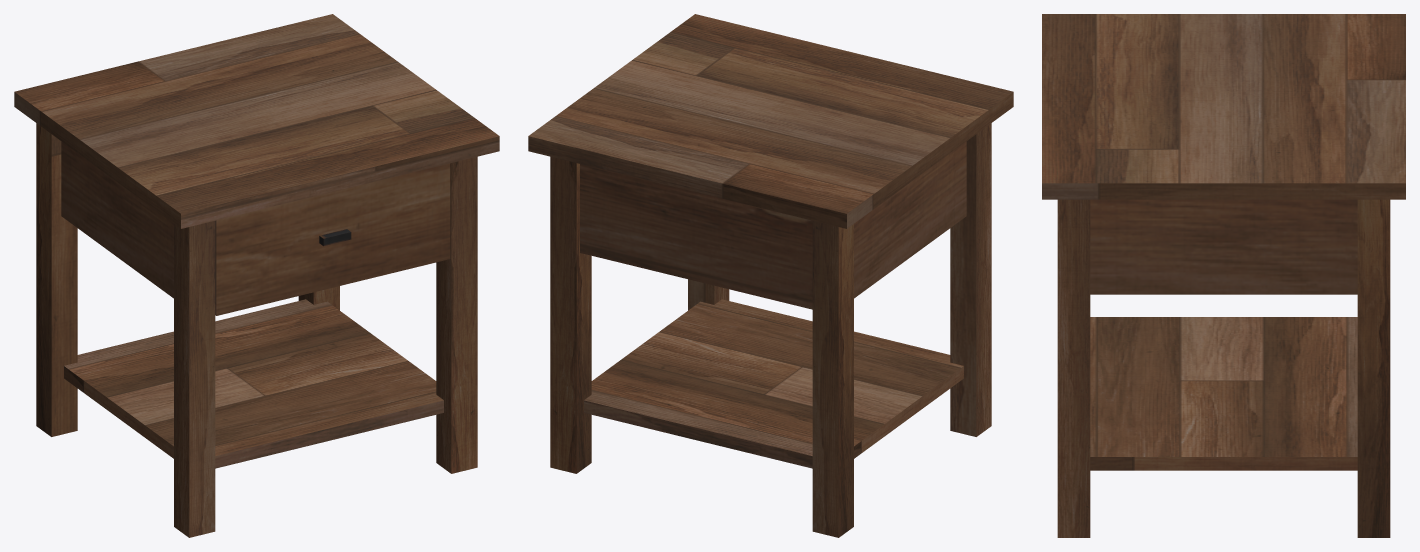
The model's file is NightStand.fbx.
3 views of the same model, side by side, from view 1: azimuth 30°, elevation 25°; view 2: azimuth 150°, elevation 25°; view 3: azimuth 270°, elevation 25° (orthographic). The views are drawn at different scales.
Parts seen in each view (by area): view 1: NightStand, NightStand Drawer; view 2: NightStand; view 3: NightStand.
Part boxes in pixels (box(x1,y1,x2,y2)): NightStand: box(14, 14, 499, 537); NightStand Drawer: box(215, 163, 450, 315); NightStand: box(528, 14, 1013, 537); NightStand: box(1042, 14, 1405, 537).
Size of the model in its own units: 74.67 by 74.56 by 67.77.
